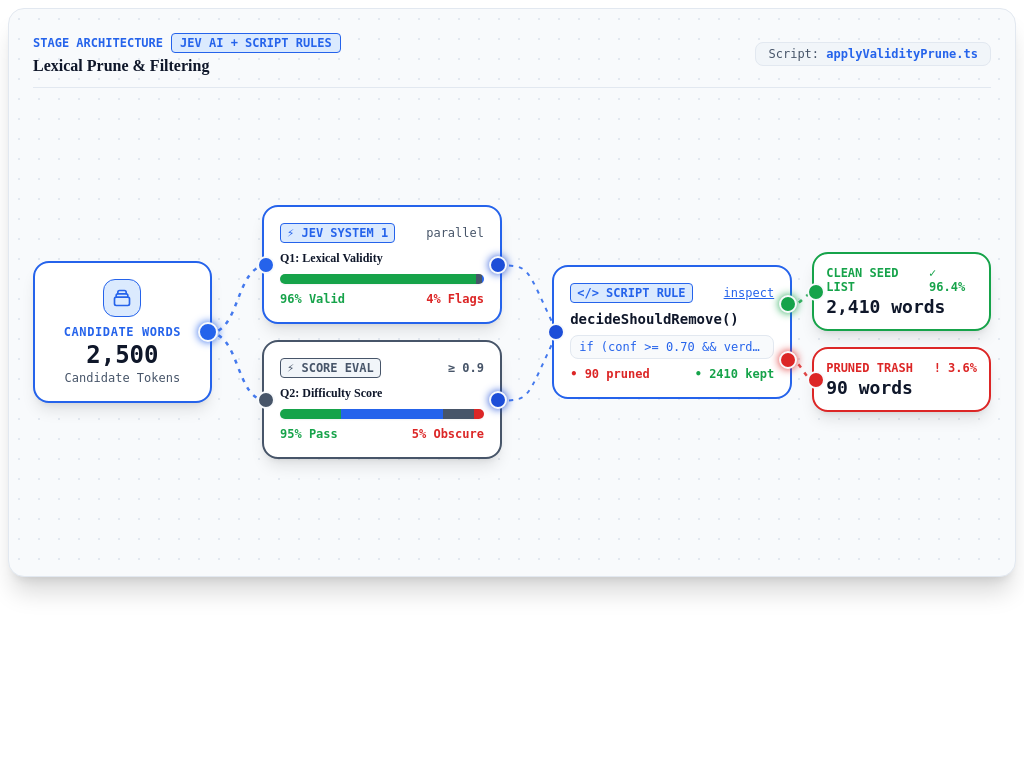
PipelineGraph & StepGraph › discloses hover popovers on diagram nodes
Hover over the text "decideShouldRemove()" at x=654, y=319, box [570,311,739,327]
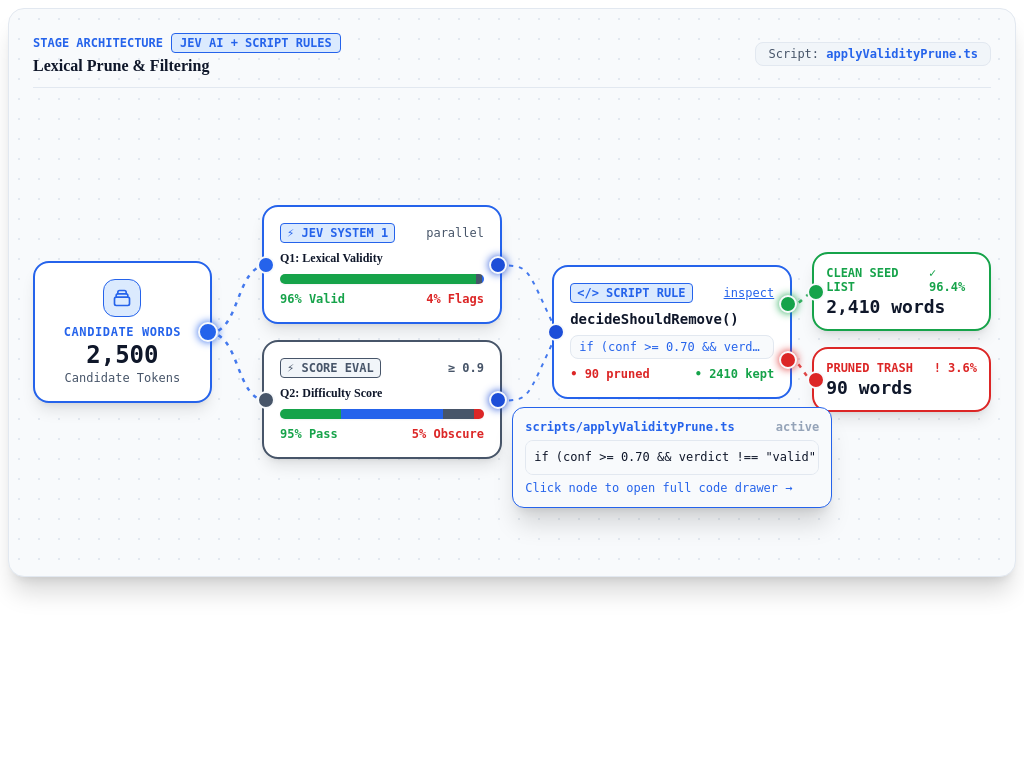
Check: the tooltip is shown, box [512,407,832,508]
Check: the tooltip shows "scripts/applyValidityPrune.ts", box [525,420,735,434]
